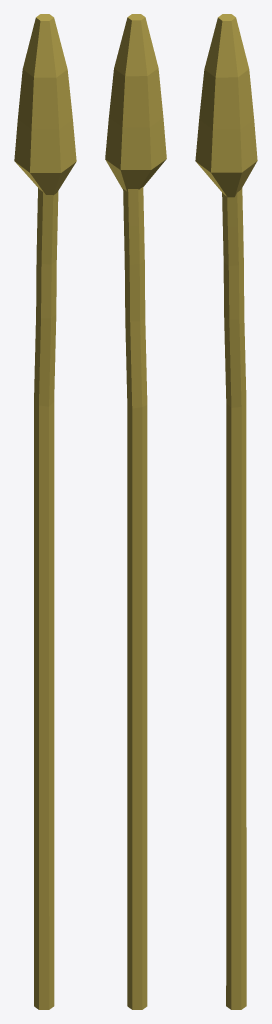
The model's file is Whead_3.fbx.
3 renders of one model, left to right at view 1: azimuth 30°, elevation 25°; view 2: azimuth 210°, elevation 25°; view 3: azimuth 330°, elevation 25°, orthographic.
Visible parts, largest first — view 1: Wheat3_mesh; view 2: Wheat3_mesh; view 3: Wheat3_mesh.
Boxes of the visible parts, <box> form: Wheat3_mesh: <box>14,14,76,1009</box>; Wheat3_mesh: <box>105,14,166,1009</box>; Wheat3_mesh: <box>195,14,257,1009</box>.
Size of the model in its own units: 4.07 by 82.75 by 4.7.
